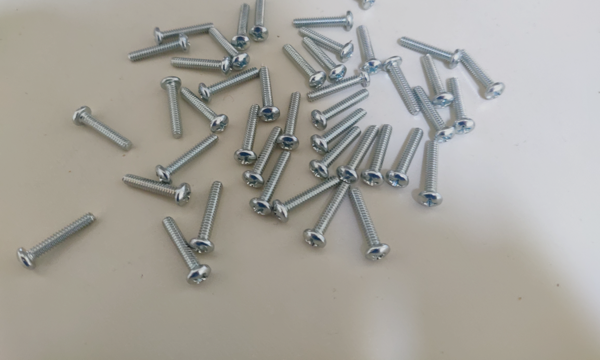longscrew: (20, 213, 99, 265), (159, 216, 212, 288), (306, 184, 353, 247), (156, 135, 219, 182), (191, 183, 231, 254), (254, 153, 297, 219), (73, 105, 132, 152), (312, 106, 368, 155), (275, 177, 337, 220), (350, 191, 388, 261), (312, 127, 365, 177), (307, 88, 369, 130), (248, 125, 286, 187), (338, 125, 380, 181), (461, 46, 502, 100), (304, 70, 369, 103), (120, 176, 191, 206), (415, 85, 453, 140), (390, 130, 427, 186), (203, 62, 260, 98), (400, 36, 461, 69), (184, 89, 229, 133), (128, 34, 193, 64), (387, 59, 421, 116), (302, 36, 346, 80), (296, 26, 354, 59), (417, 142, 446, 207), (448, 73, 474, 142), (204, 30, 251, 68), (281, 46, 325, 86), (418, 55, 453, 105), (279, 91, 306, 152), (236, 104, 262, 166), (154, 18, 213, 44), (367, 124, 391, 187), (163, 79, 184, 139), (292, 9, 353, 29), (168, 56, 231, 74), (232, 3, 256, 49), (250, 0, 272, 42), (361, 25, 378, 73), (260, 66, 274, 122), (330, 0, 374, 7)
